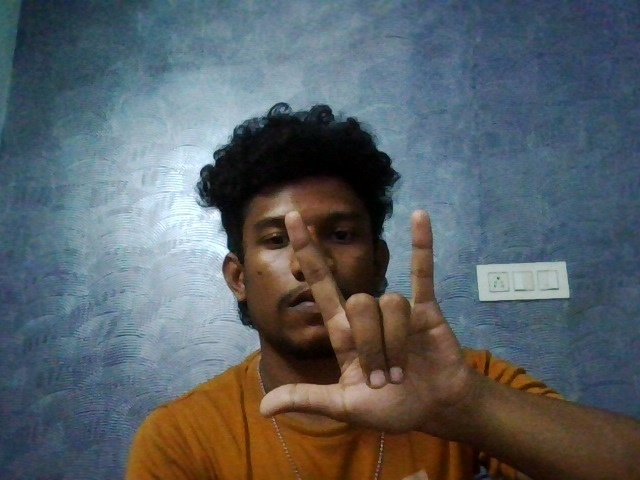i love you: (245, 203, 497, 428)
